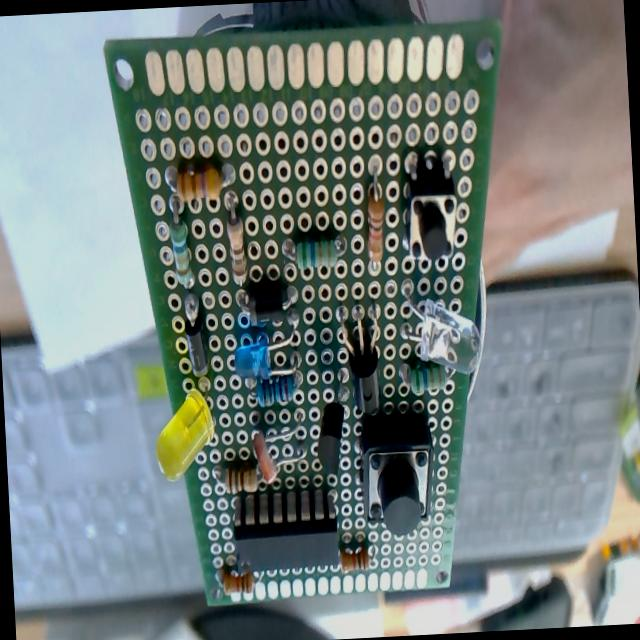IC: (234, 491, 341, 575)
cds: (241, 426, 307, 484)
diode: (240, 278, 294, 322), (183, 307, 210, 378)
led: (399, 286, 484, 378), (153, 387, 218, 484), (236, 332, 301, 383)
resistor: (363, 182, 387, 268), (170, 213, 196, 290), (225, 202, 248, 286), (174, 164, 222, 203), (399, 361, 447, 396), (296, 238, 340, 272), (255, 376, 298, 408), (220, 464, 258, 494), (340, 545, 370, 574), (223, 569, 254, 596)
switch: (358, 409, 438, 535), (402, 156, 461, 266)
transistor: (309, 365, 352, 477), (339, 311, 382, 418)
